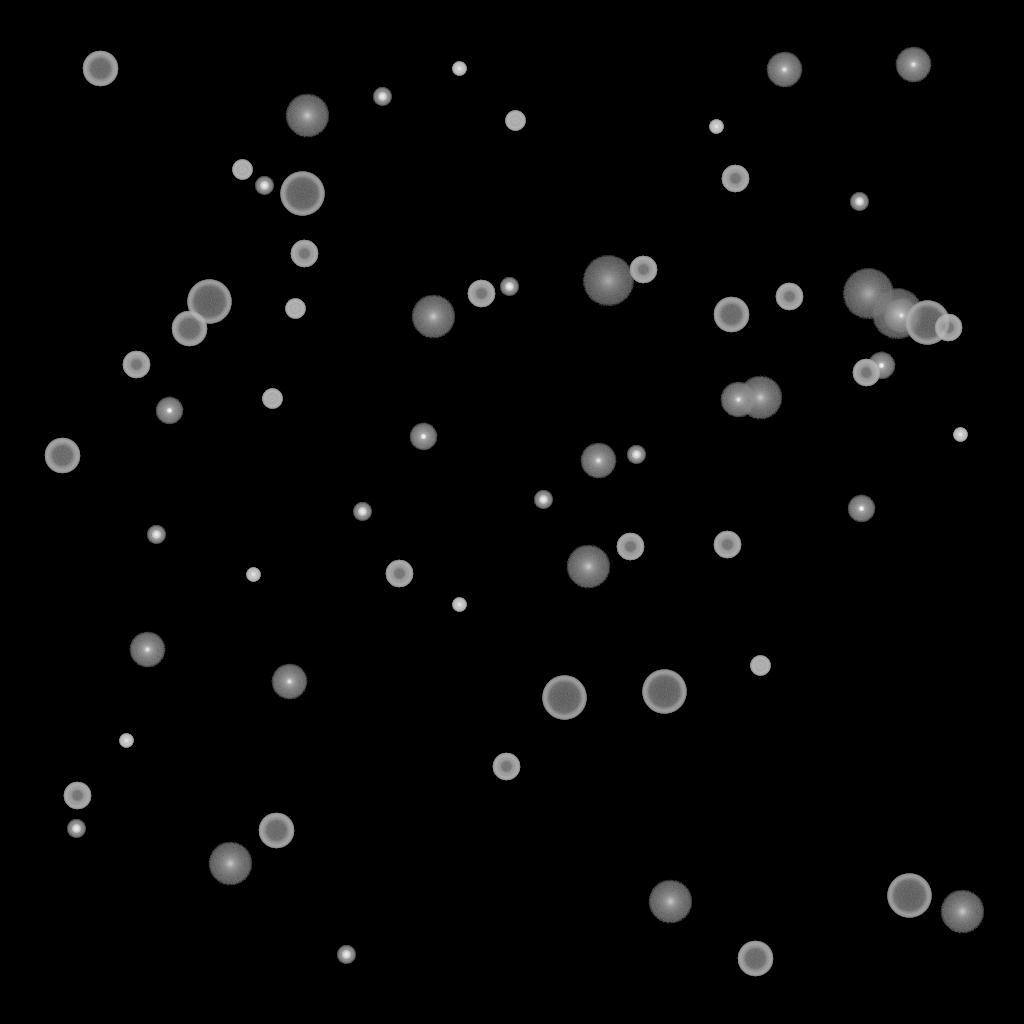depth:-10: (155, 397, 183, 425), (409, 423, 437, 451), (867, 352, 895, 380), (847, 495, 875, 523)
depth:-20: (534, 491, 552, 509), (147, 526, 165, 544), (255, 177, 273, 195), (850, 193, 868, 211), (500, 278, 518, 296), (373, 88, 391, 106), (353, 503, 371, 521), (627, 446, 645, 464), (337, 946, 355, 964), (67, 820, 85, 838)
depth:-30: (452, 62, 466, 76), (452, 598, 466, 612), (119, 734, 133, 748), (709, 120, 723, 134), (953, 428, 967, 442), (246, 568, 260, 582)
depth:-40: (285, 299, 305, 319), (262, 389, 282, 409), (505, 111, 525, 131), (232, 160, 252, 180), (750, 656, 770, 676)
depth:-50: (385, 560, 413, 588), (467, 280, 495, 308), (290, 240, 318, 268), (721, 165, 749, 193), (775, 283, 803, 311), (852, 359, 880, 387), (713, 531, 741, 559), (934, 314, 962, 342), (629, 256, 657, 284), (616, 533, 644, 561), (122, 351, 150, 379), (63, 782, 91, 810), (492, 753, 520, 781)
depth:-60: (737, 941, 773, 977), (171, 311, 207, 347), (44, 438, 80, 474), (713, 297, 749, 333), (82, 51, 118, 87), (258, 813, 294, 849)
depth:-70: (542, 676, 586, 720), (187, 280, 231, 324), (280, 172, 324, 216), (642, 670, 686, 714), (905, 301, 949, 345), (887, 874, 931, 918)
depth:0: (580, 443, 616, 479), (883, 298, 919, 334), (766, 52, 802, 88), (129, 632, 165, 668), (271, 664, 307, 700), (720, 382, 756, 418), (895, 47, 931, 83)
depth:10: (411, 295, 455, 339), (285, 94, 329, 138), (738, 376, 782, 420), (940, 890, 984, 934), (648, 880, 692, 924), (208, 842, 252, 886), (566, 545, 610, 589)
depth:20: (871, 289, 923, 339), (582, 256, 634, 306), (842, 269, 894, 319)
